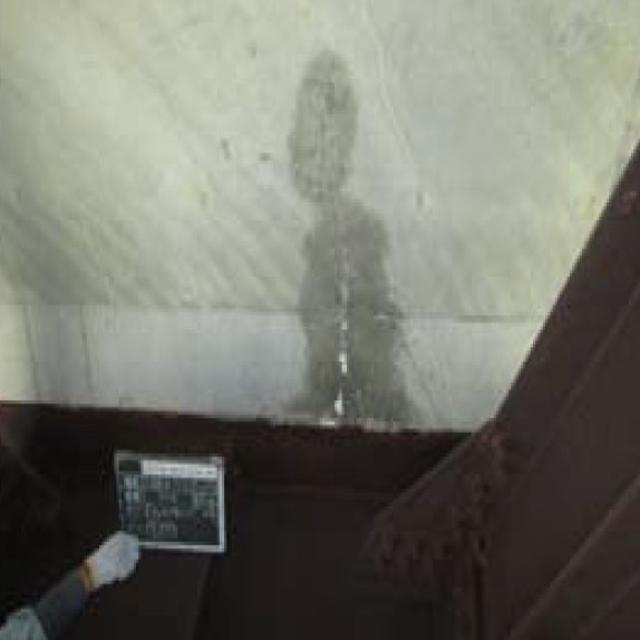leakage: (278, 50, 428, 434)
